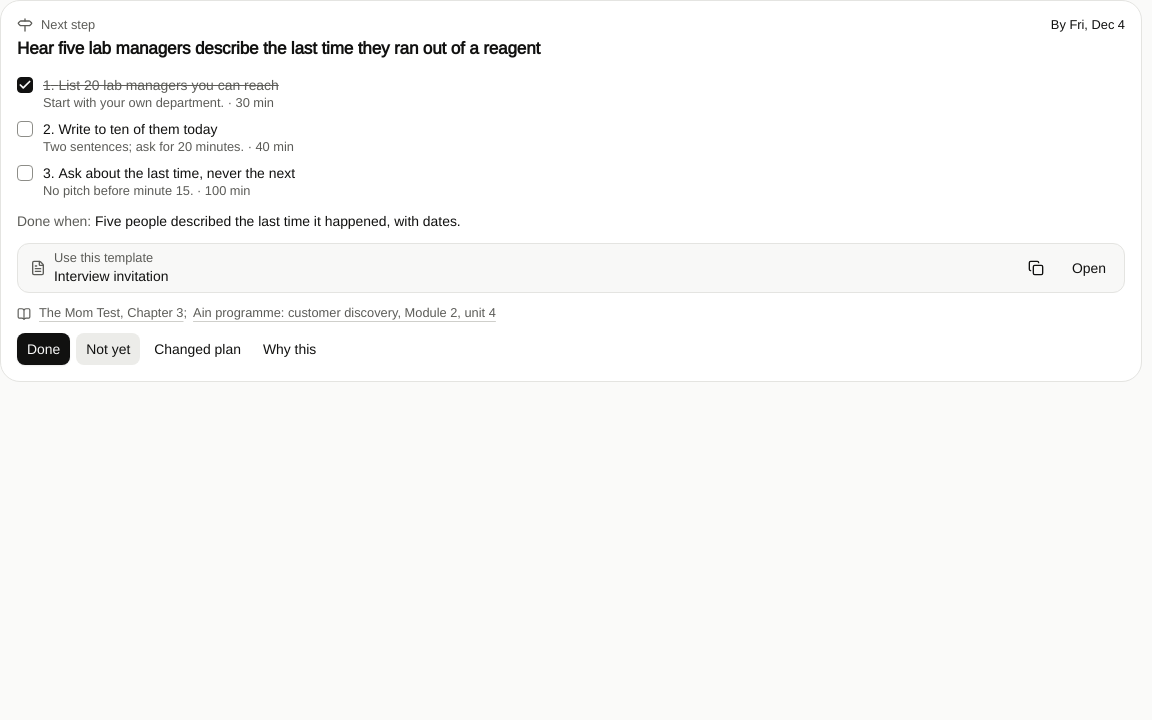
Test: StepCard › a source without a page shows its detail on a press, with the passage the reply used
The image size is (1152, 720).
What coordinates should you click on to do the following:
click the button "Ain programme: customer discovery, Module 2, unit 4"
I would click on:
 (344, 313)
Its box is [193,305,496,321].
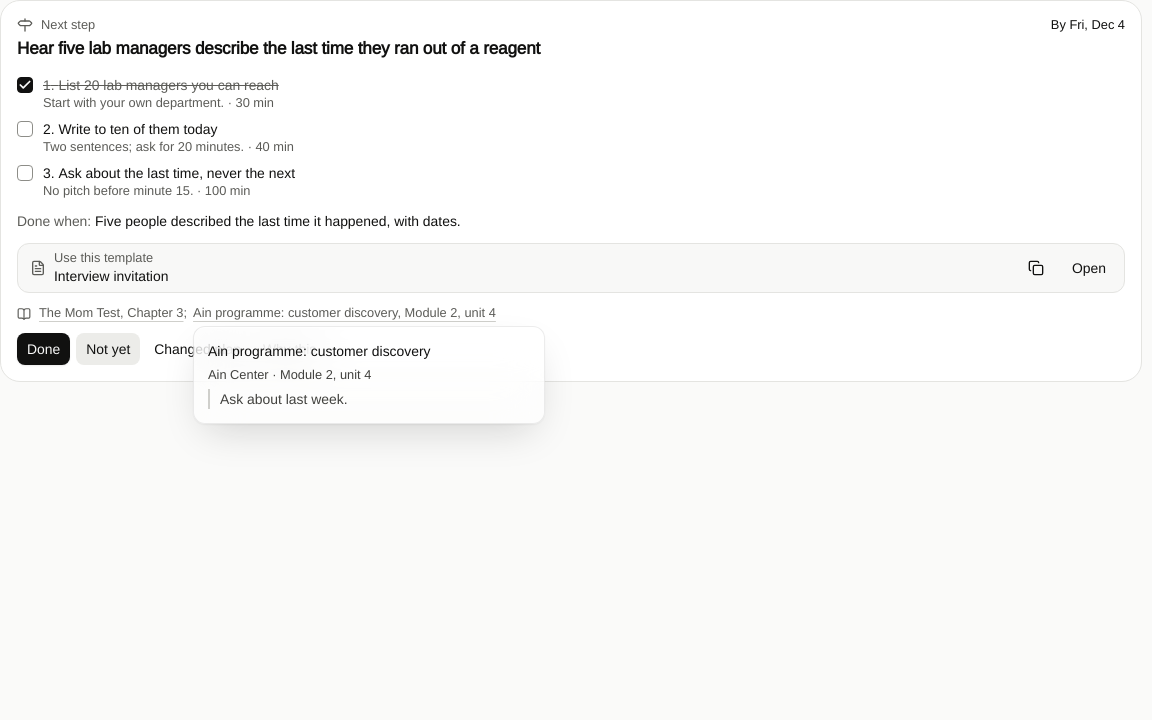
expect the dialog named "Source: Ain programme" shows "Ask about last week.": met, box [220,391,348,407]
expect the dialog named "Source: Ain programme" shows "Module 2, unit 4": met, box [208,367,371,382]
